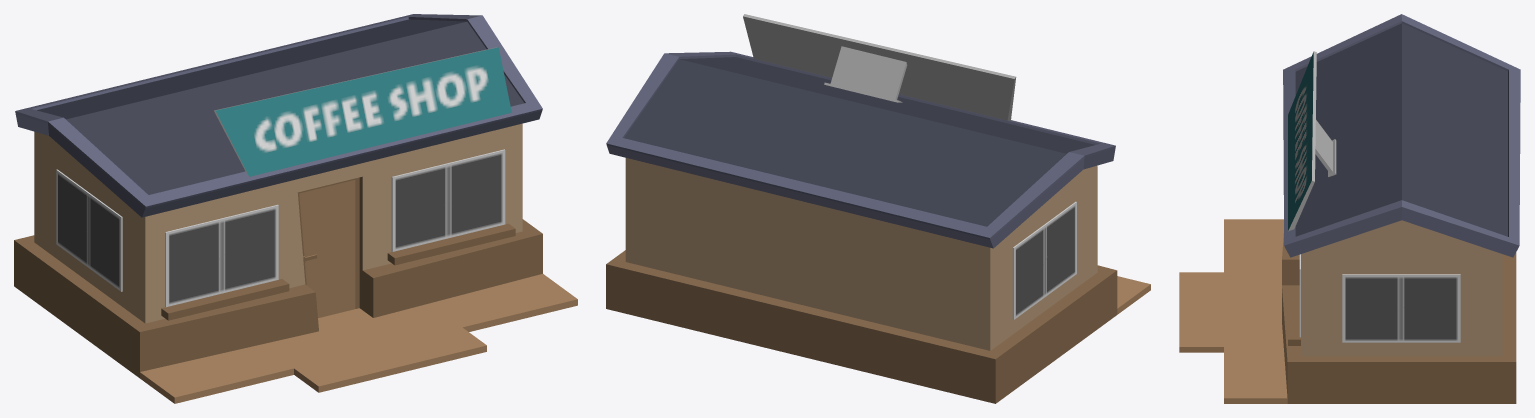
Rendered from coffeeShop02_color01.fbx.
3 renders of one model, left to right at view 1: azimuth 30°, elevation 25°; view 2: azimuth 150°, elevation 25°; view 3: azimuth 270°, elevation 25°, orthographic. The views are drawn at different scales.
Visible parts, largest first — view 1: coffeeShop02_color01; view 2: coffeeShop02_color01; view 3: coffeeShop02_color01.
Part boxes in pixels (x1,y1,x2,y2): coffeeShop02_color01: [14, 14, 577, 403]; coffeeShop02_color01: [606, 14, 1150, 403]; coffeeShop02_color01: [1179, 14, 1520, 403].
Bounding box in the file's own units: 1294 × 669 × 968.
